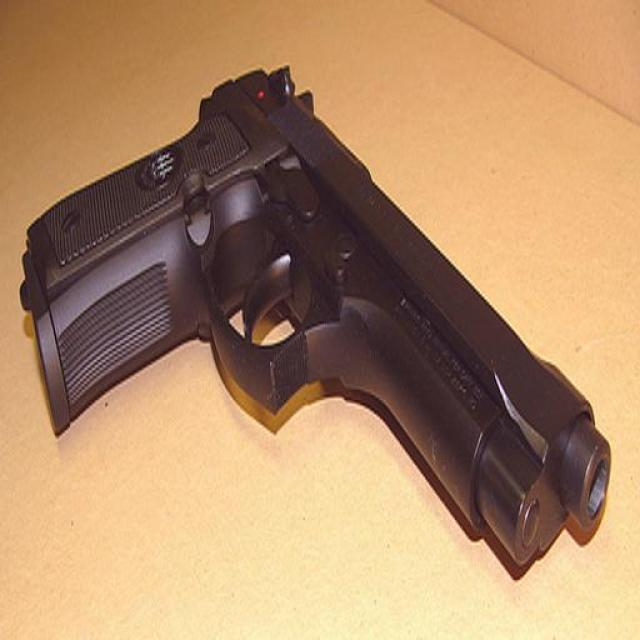pistol: (17, 40, 610, 576)
